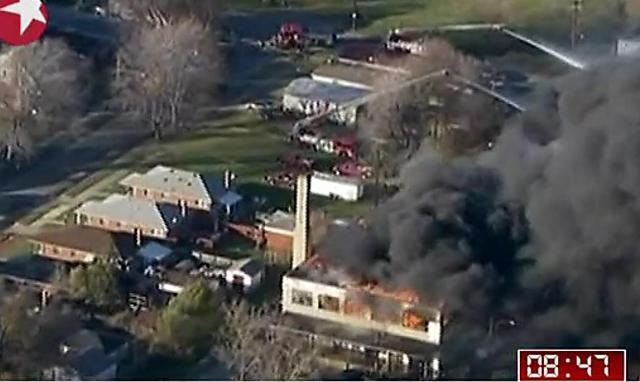smoke: (510, 77, 636, 341), (408, 148, 509, 311), (328, 215, 404, 276)
